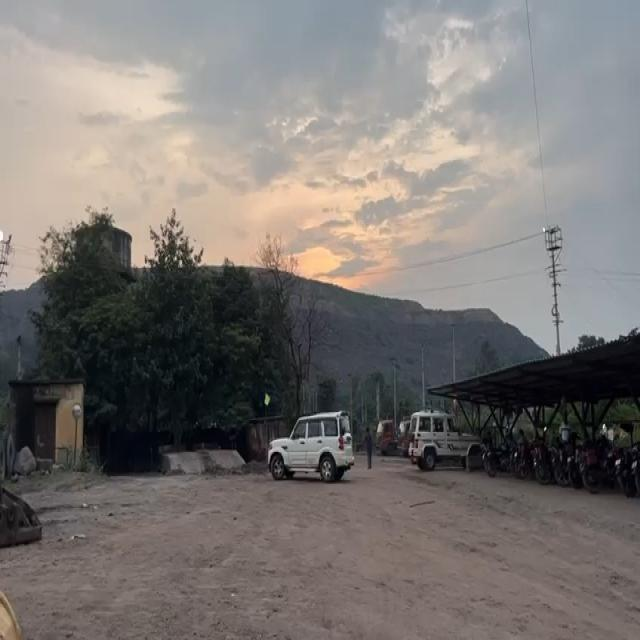light_vehicle: (268, 412, 354, 481)
